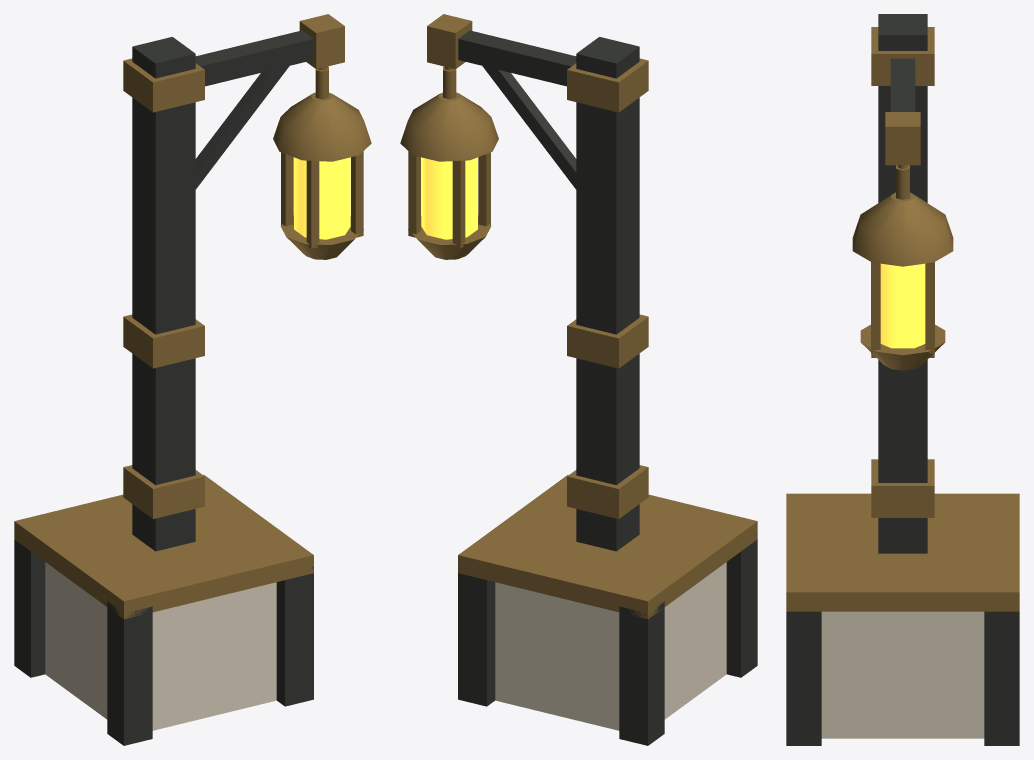
Rendered from lamp_post.glb.
3 views of the same model, side by side, from view 1: azimuth 30°, elevation 25°; view 2: azimuth 150°, elevation 25°; view 3: azimuth 270°, elevation 25° (orthographic). The views are drawn at different scales.
Visible parts, largest first — view 1: lamp_post; view 2: lamp_post; view 3: lamp_post.
Part boxes in pixels (x1=…): lamp_post: x1=14, y1=14, x2=371, y2=745; lamp_post: x1=400, y1=14, x2=757, y2=745; lamp_post: x1=786, y1=14, x2=1019, y2=745.
Size of the model in its own units: 1.03 by 2.1 by 0.66.
